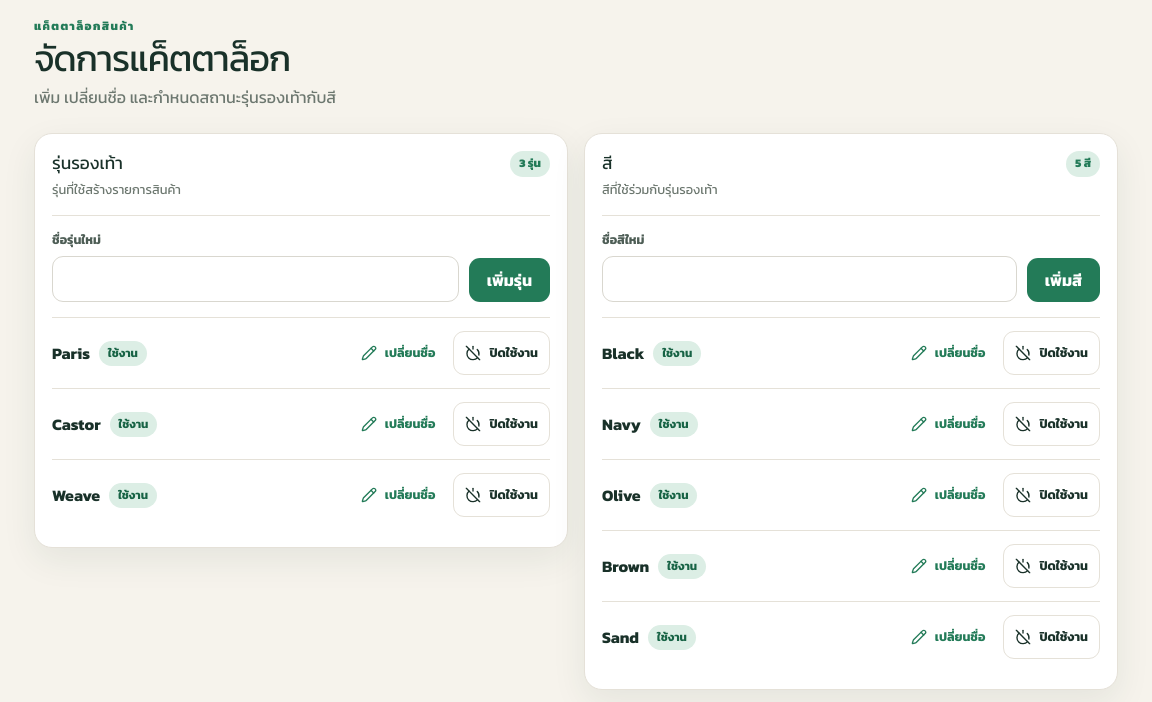
Test case: CatalogPage › adds trimmed models and colors
The image size is (1152, 702).
Expected: the text "Paris" is shown, [52,341,90,365]
Type "  Runner  " into the field labelled "ชื่อรุ่นใหม่".
click(255, 279); type("  Runner  ")  # box [53,257,458,301]
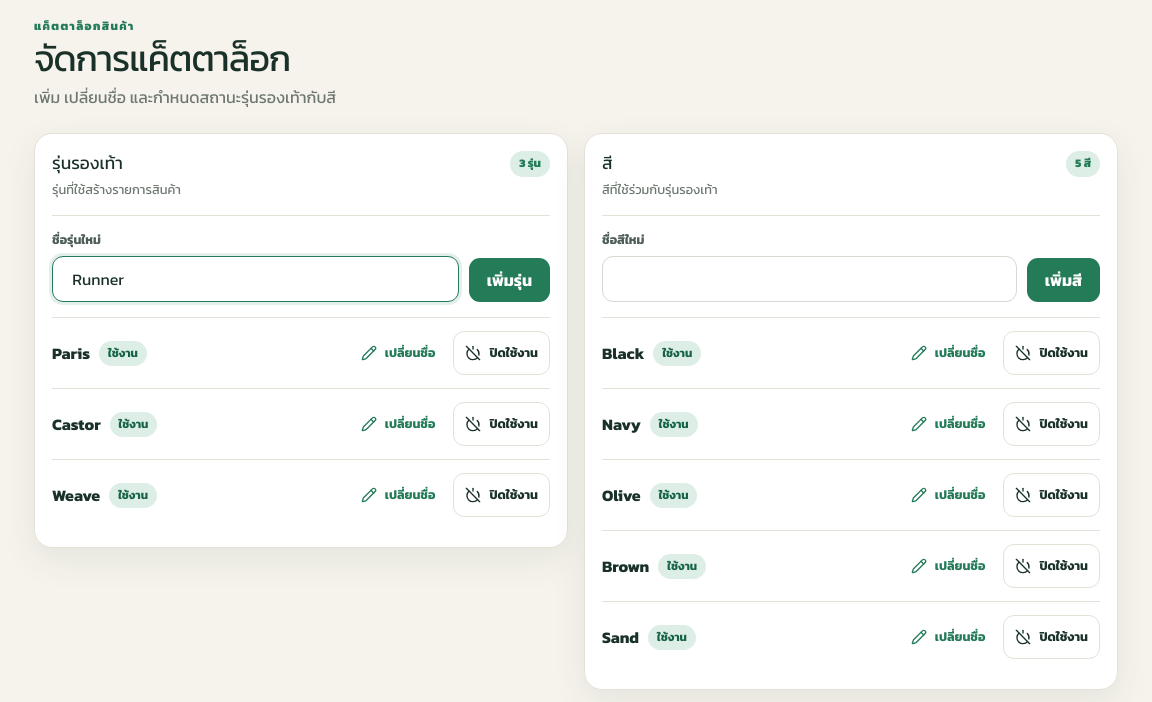
Click the button "เพิ่มรุ่น".
click(509, 280)  # box [469,258,550,302]
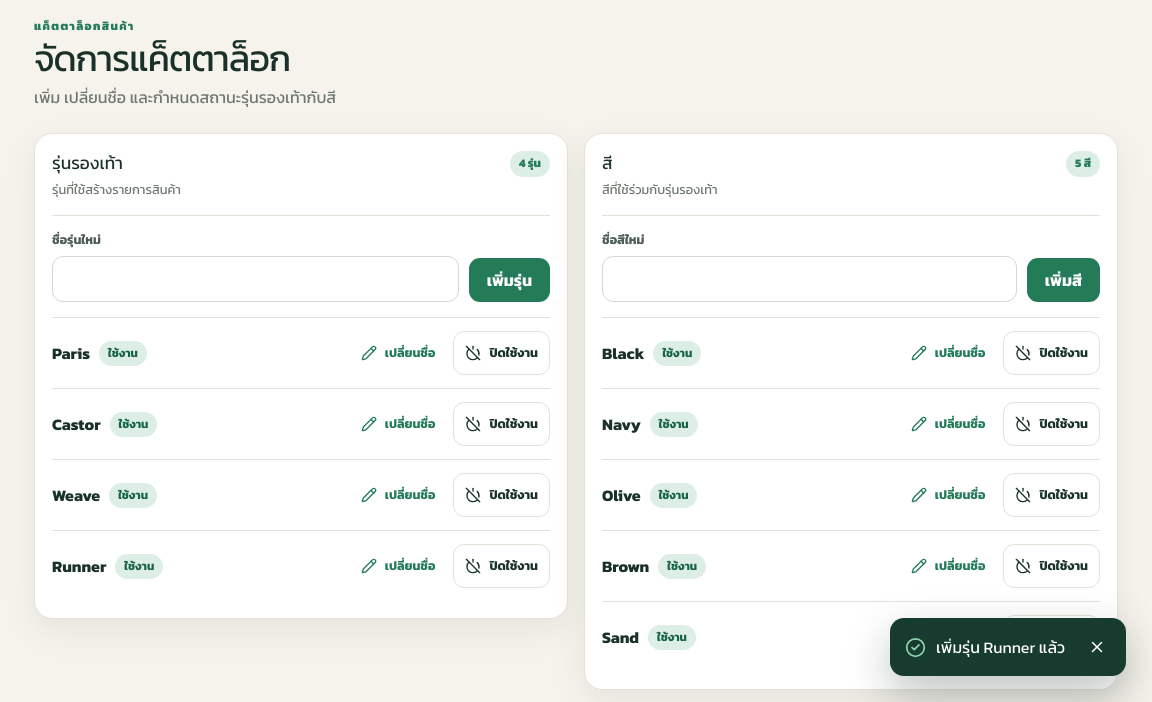
Expected: the text "Runner" is shown, [52,554,106,578]
Type "  White  " into the field labelled "ชื่อสีใหม่".
click(809, 279); type("  White  ")  # box [603,257,1016,301]
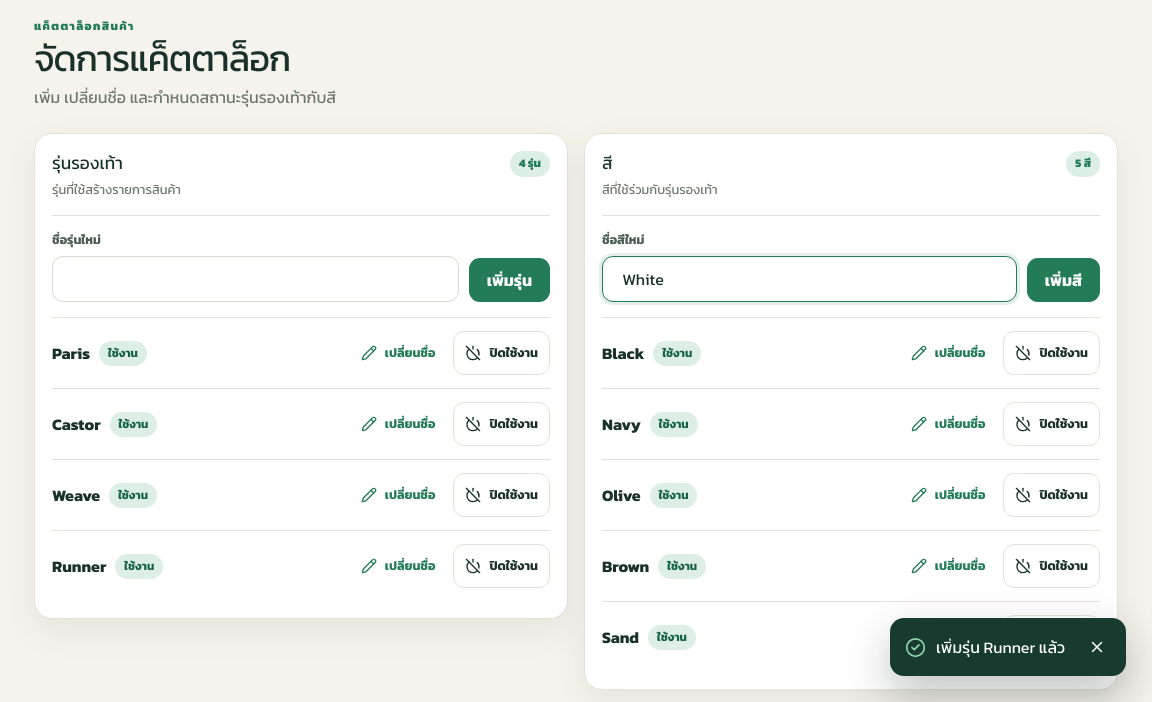
Click the button "เพิ่มสี".
click(1063, 280)  # box [1027,258,1100,302]
(page scrolled)
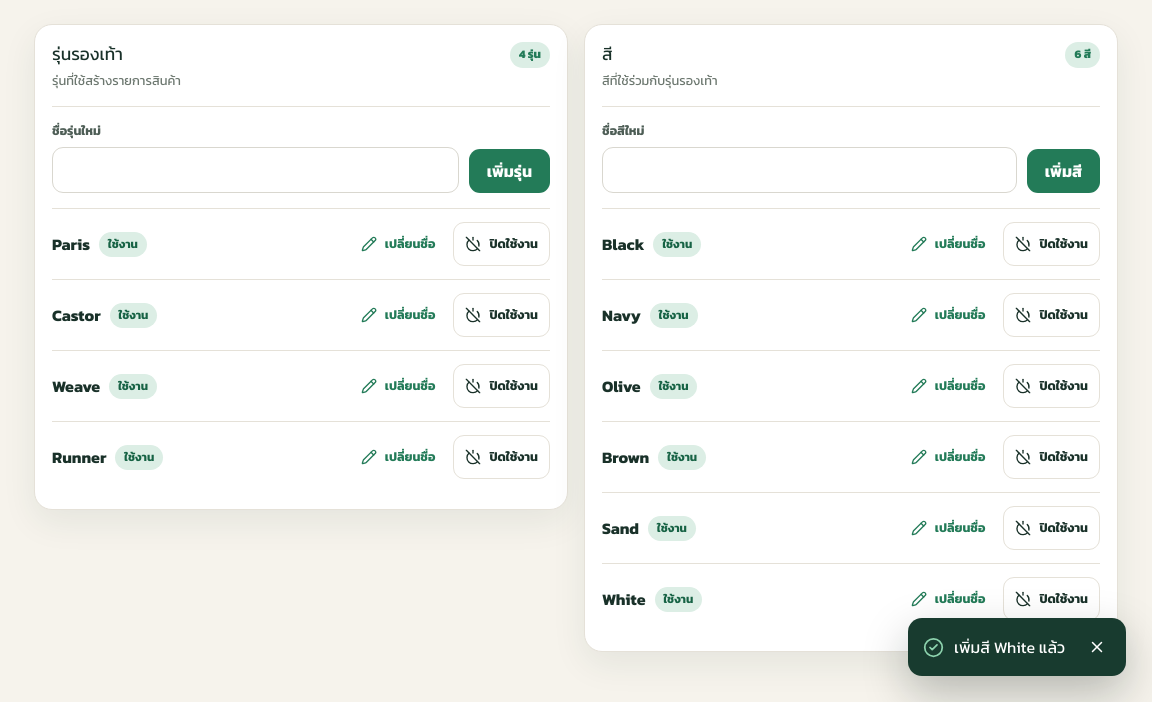
Expected: the text "White" is shown, [602,587,646,611]
